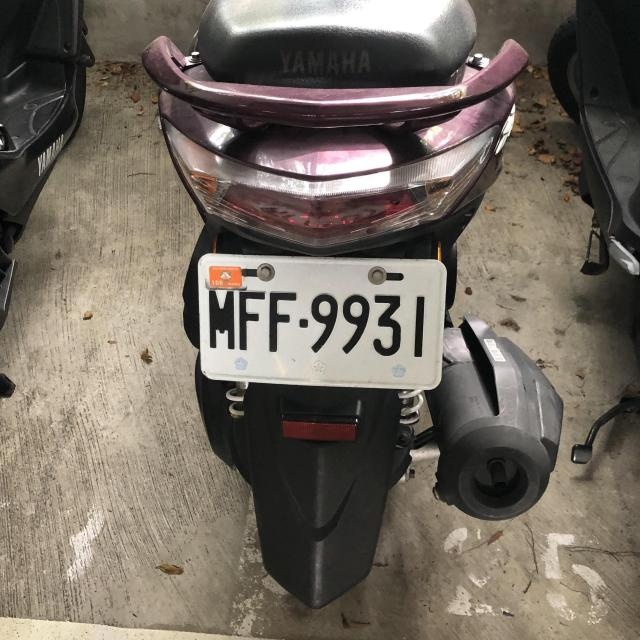W: (197, 247, 446, 389)
